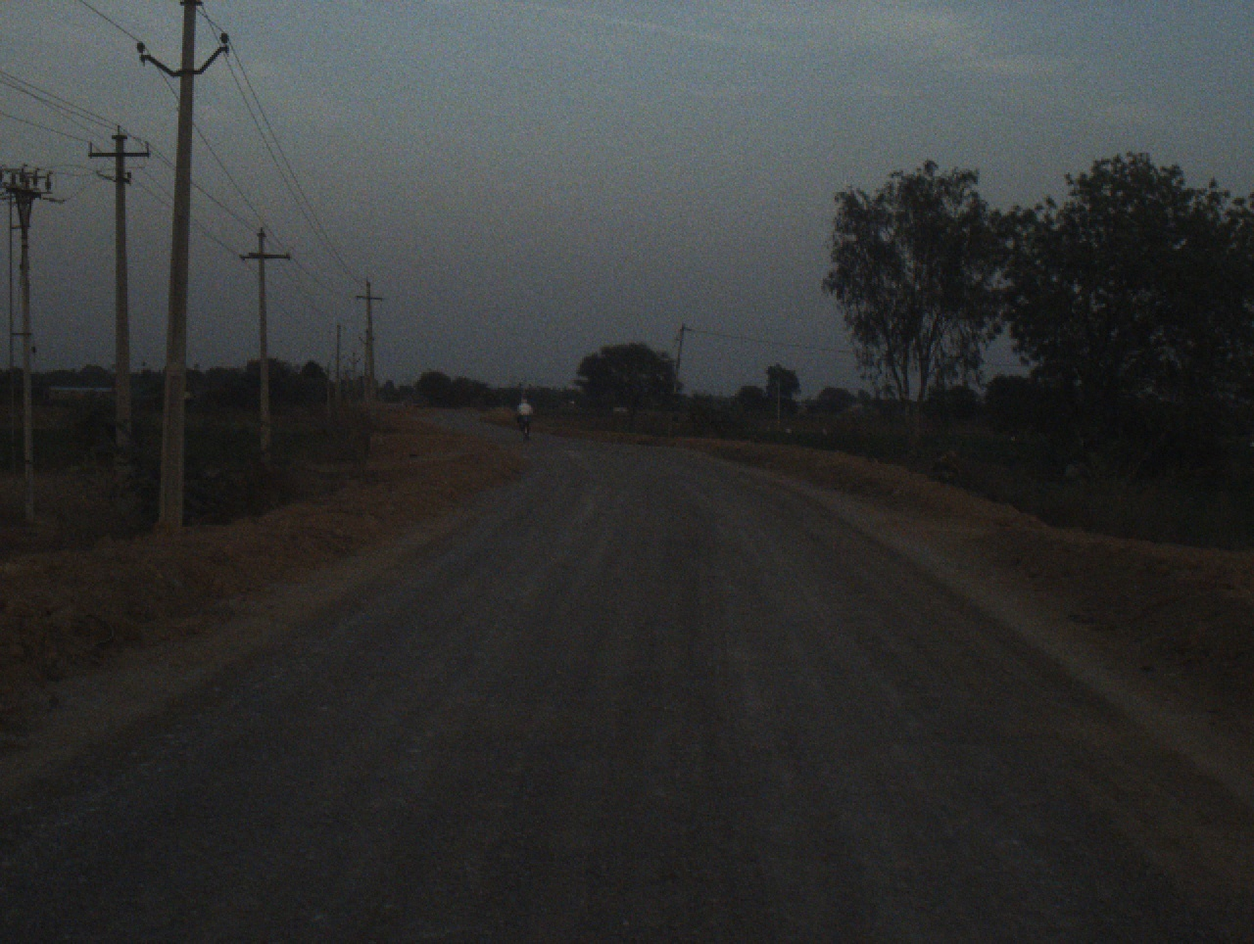bicycle: (518, 407, 529, 440)
rider: (517, 395, 535, 433)
